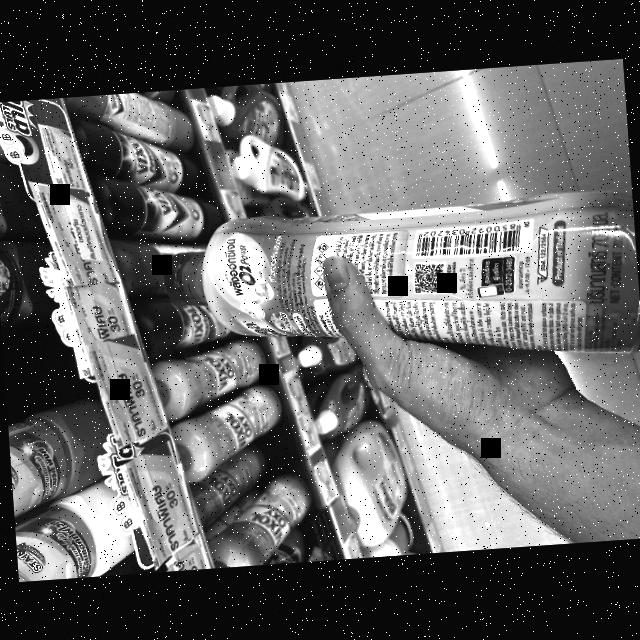chemical_plastic_bottle: (146, 176, 640, 384)
